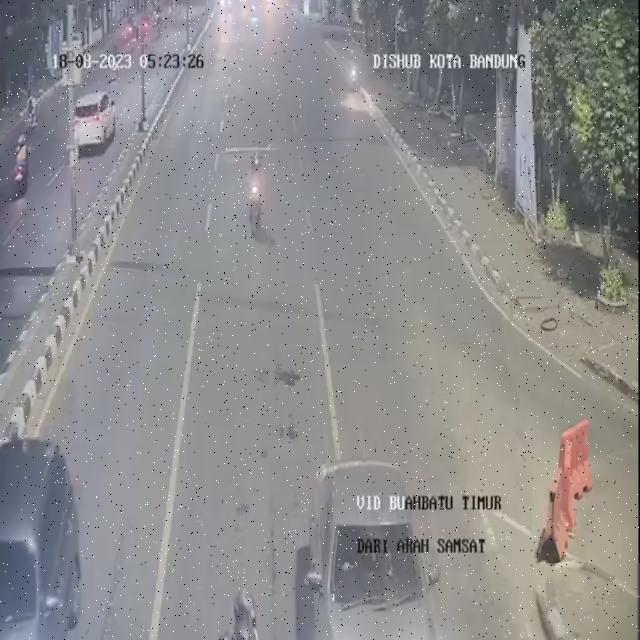cars: (302, 452, 431, 640), (0, 437, 86, 639), (526, 563, 640, 640)
motorcycle: (244, 151, 274, 243)
